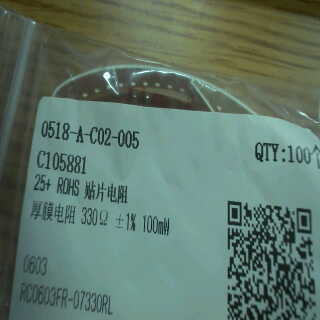330R: (79, 203, 111, 229)
